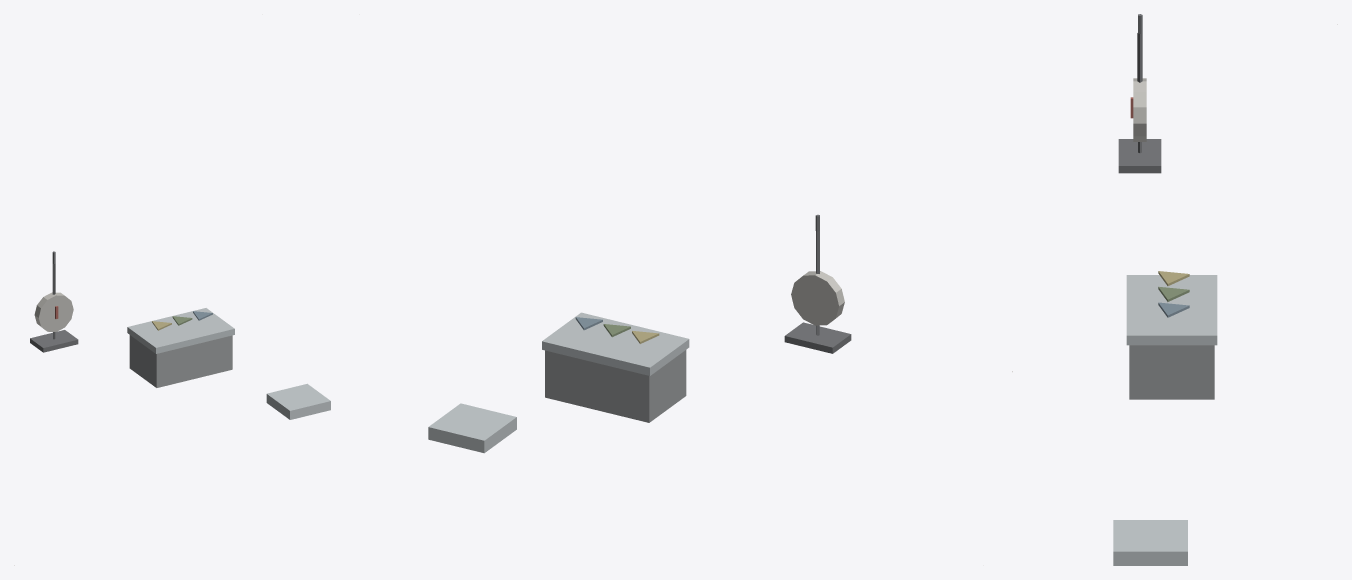
File: FishBuyerStand_metal.glb
3 views of the same model, side by side, from view 1: azimuth 30°, elevation 25°; view 2: azimuth 150°, elevation 25°; view 3: azimuth 270°, elevation 25° (orthographic). The views are drawn at different scales.
Visible parts, largest first — view 1: FishBuyerStand_metal; view 2: FishBuyerStand_metal; view 3: FishBuyerStand_metal.
Boxes of the visible parts, <box> form: FishBuyerStand_metal: <box>14,251,330,565</box>; FishBuyerStand_metal: <box>428,214,851,453</box>; FishBuyerStand_metal: <box>1012,14,1337,565</box>.
Bounding box in the file's own units: 12.05 × 12.8 × 6.11.
